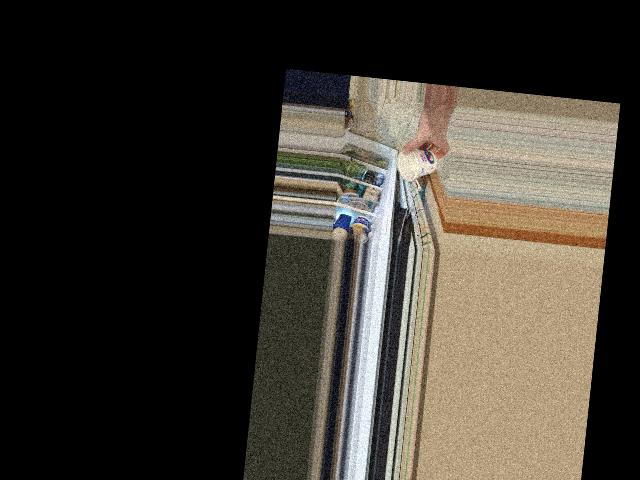cotage: (403, 142, 437, 181)
